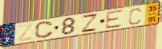8: (61, 16, 77, 35)
C: (35, 20, 55, 39), (128, 7, 143, 26)
E: (104, 9, 125, 30)
Z: (16, 22, 35, 43), (80, 13, 99, 33)
